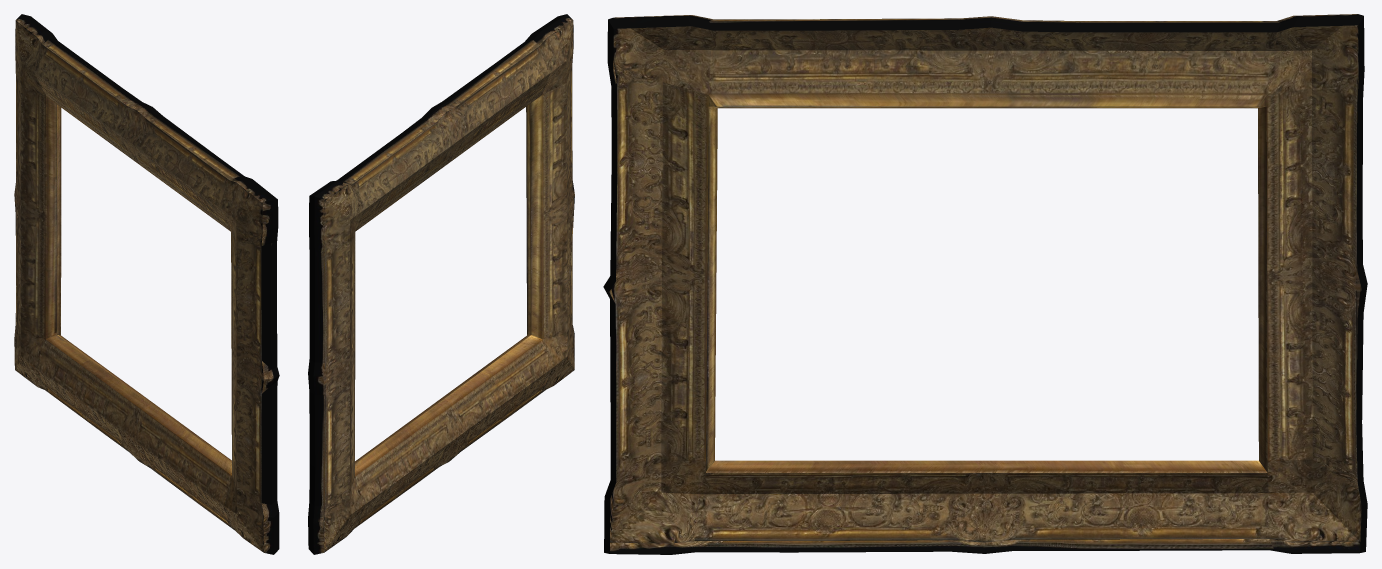
The model's file is painting frame .fbx.
3 renders of one model, left to right at view 1: azimuth 30°, elevation 25°; view 2: azimuth 150°, elevation 25°; view 3: azimuth 270°, elevation 25°, orthographic. The views are drawn at different scales.
Parts seen in each view (by area): view 1: Plane; view 2: Plane; view 3: Plane.
Boxes of the visible parts, x1=… form: Plane: x1=14, y1=14, x2=279, y2=554; Plane: x1=308, y1=14, x2=574, y2=554; Plane: x1=603, y1=14, x2=1367, y2=554.
Bounding box in the file's own units: 11581 × 663 × 8992.
1 material, 1 textured.
